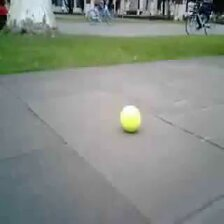tennis: (120, 105, 141, 133)
